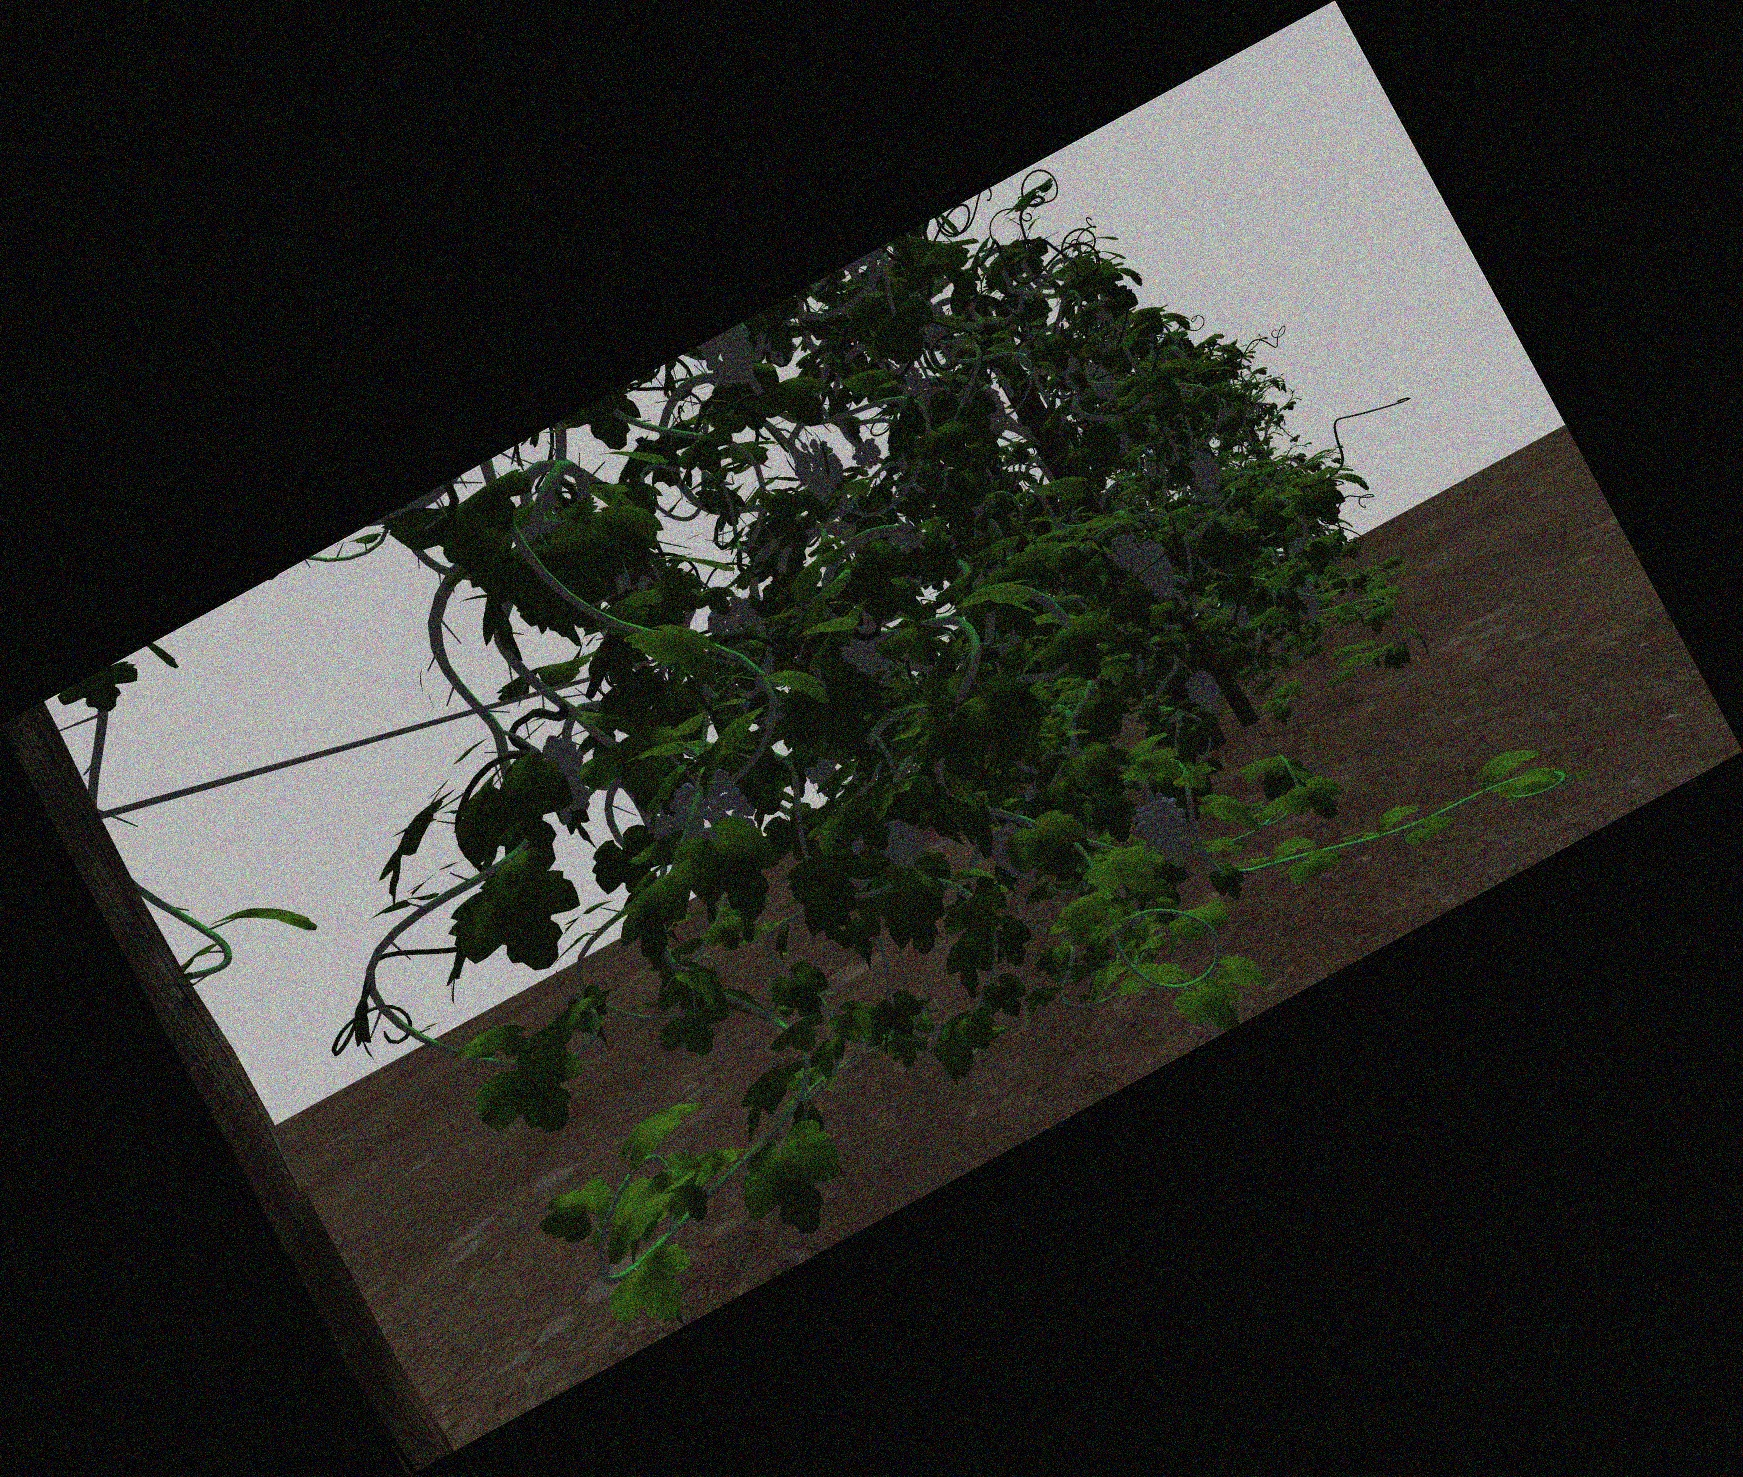grape: (674, 774, 738, 829), (1144, 796, 1191, 866), (543, 740, 587, 815), (795, 441, 841, 497), (847, 623, 888, 678), (709, 338, 759, 384), (879, 816, 920, 869), (713, 601, 759, 648), (1140, 544, 1172, 598), (1191, 673, 1222, 715), (981, 388, 1006, 431), (1090, 360, 1113, 401), (1112, 536, 1140, 570), (1194, 459, 1216, 498), (1298, 582, 1320, 621), (899, 365, 926, 397), (1203, 450, 1224, 488), (854, 441, 883, 467), (1230, 604, 1249, 629)
